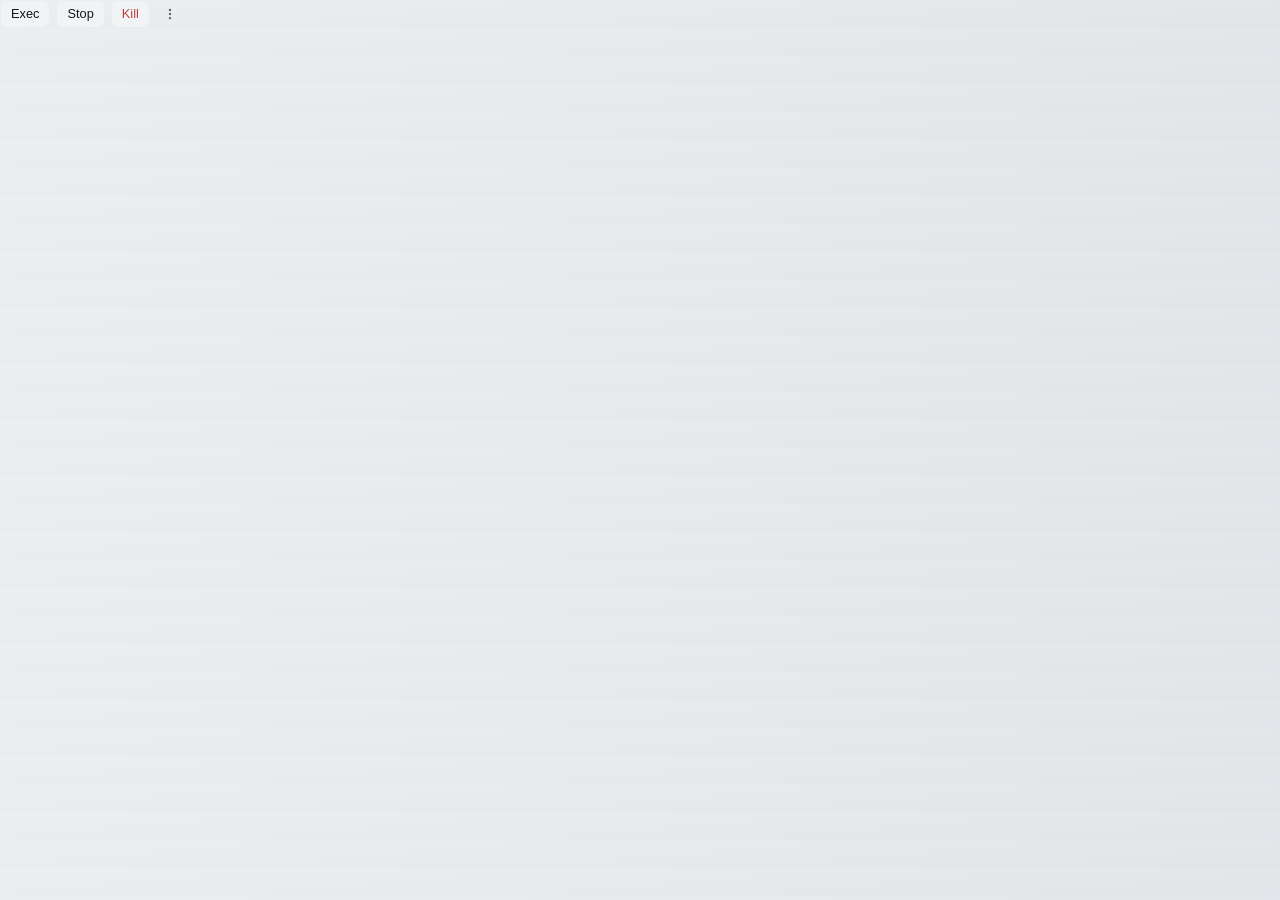
Test: delete from the overflow menu › opens an in-app confirmation and cancels without deleting
Press Enter in the button named "Agent settings", box [156,0,184,28]
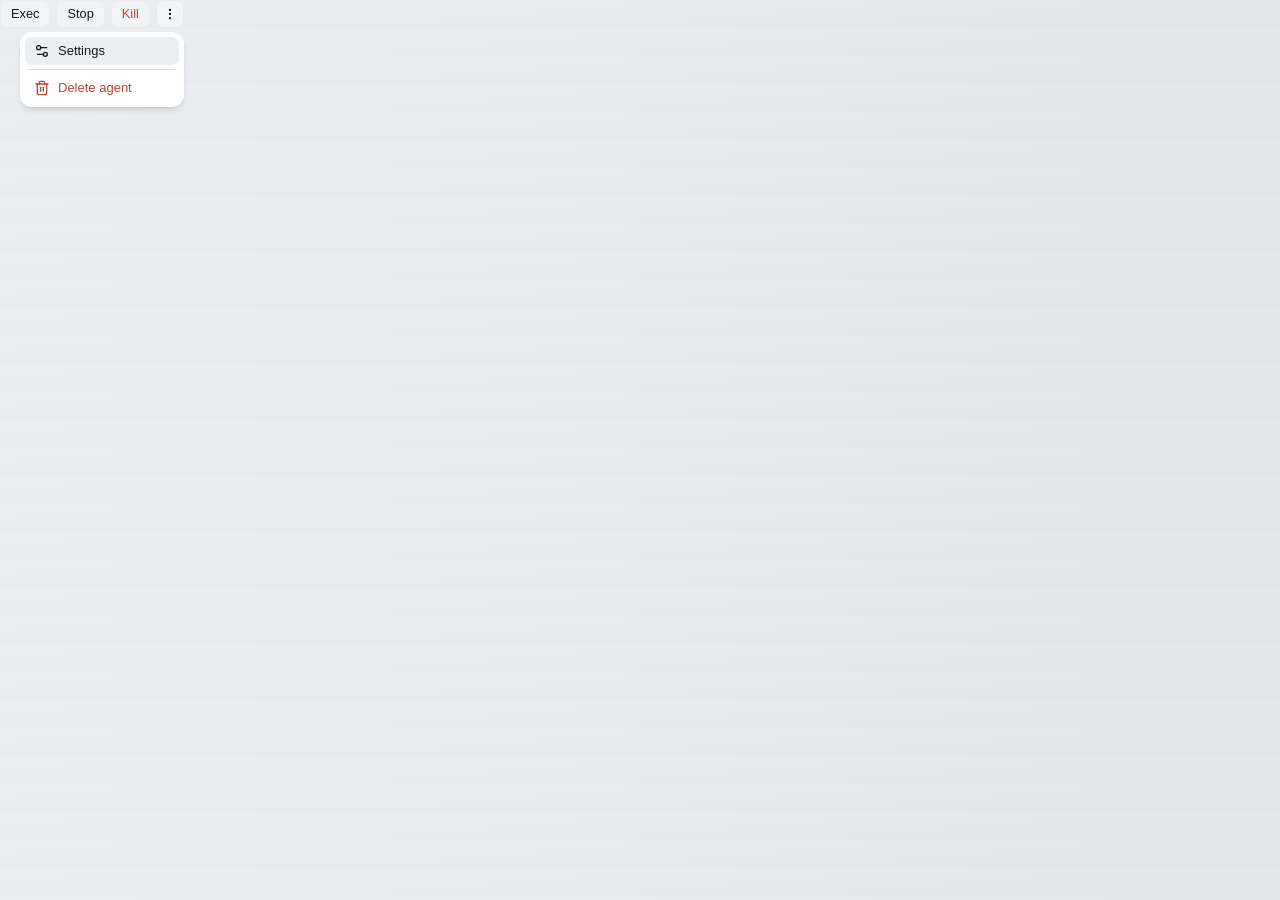
Click the menu item "Delete agent".
click(83, 88)  # box [34,80,132,96]
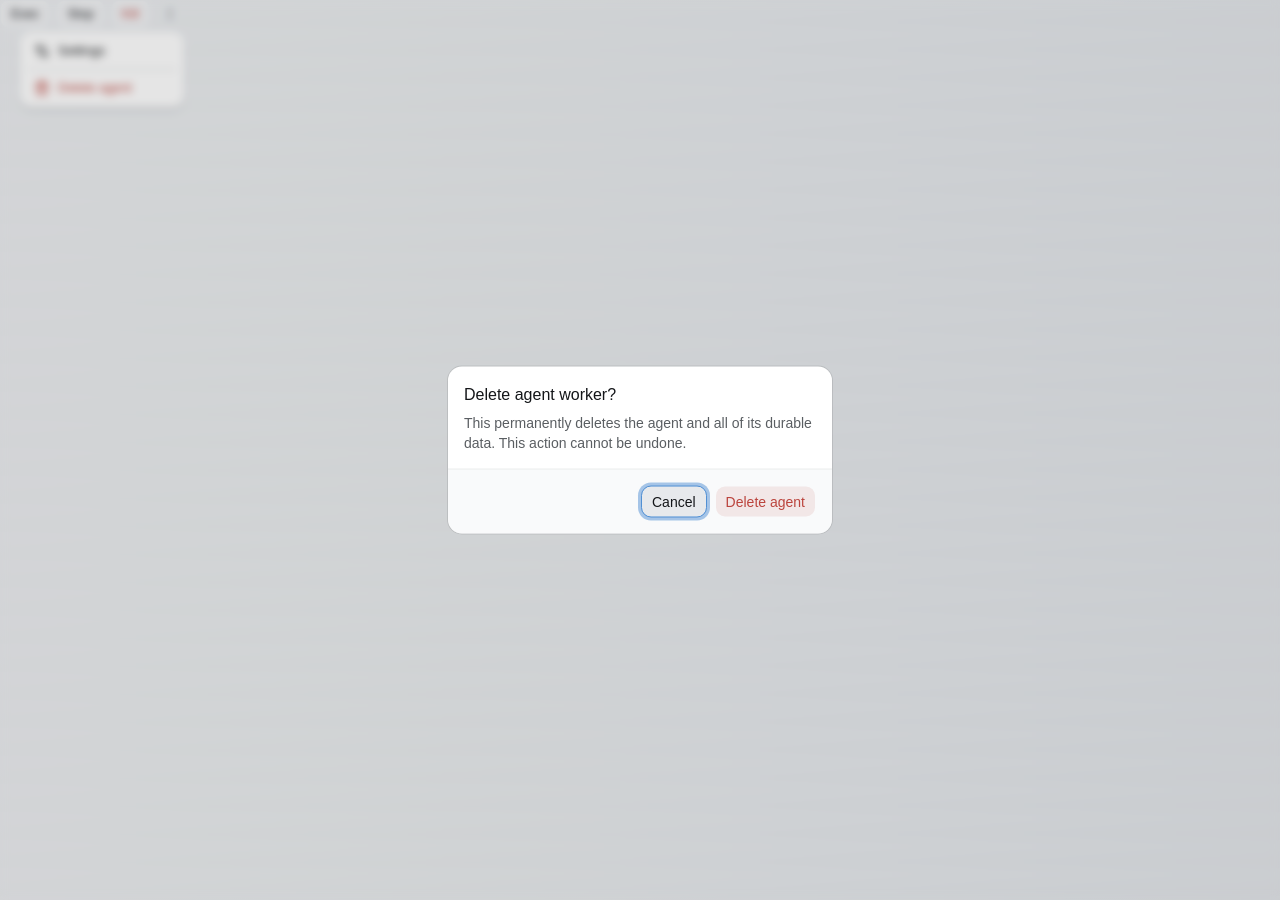
expect the dialog is shown: met, box [448,366,832,534]
expect the heading "Delete agent worker?" is shown: met, box [464,382,616,406]
Click the button "Cancel".
click(674, 502)  # box [641,486,707,518]
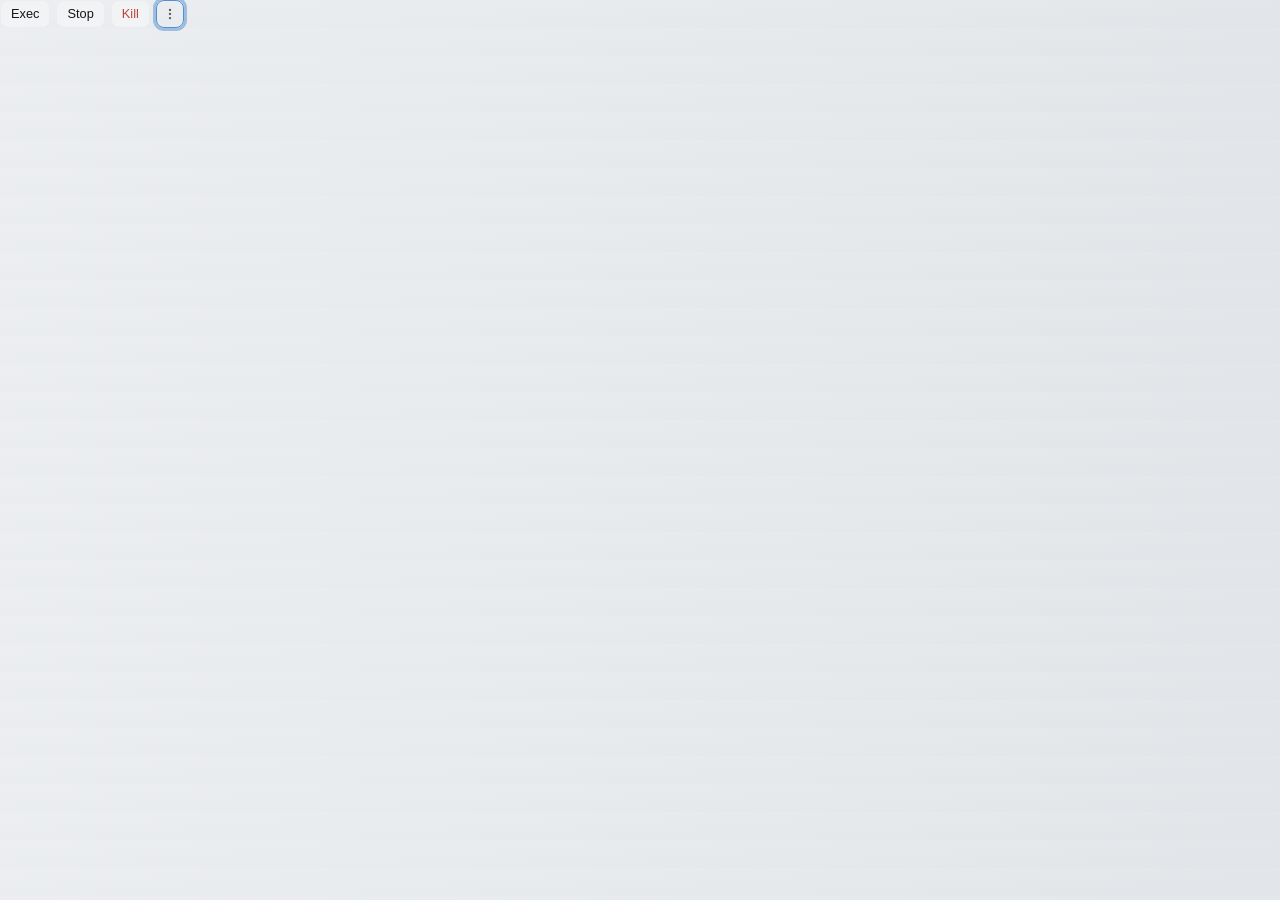
expect the dialog is gone: met
